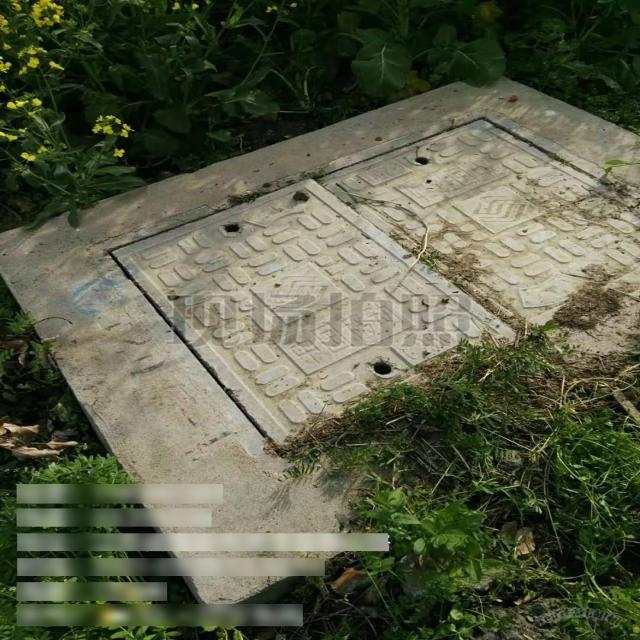Good: (91, 110, 640, 470)
